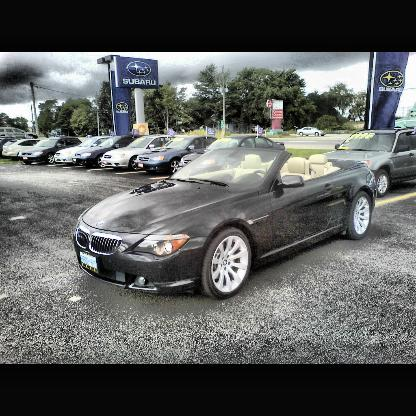BMW 6 Series Convertible 2007: (77, 149, 380, 298)
